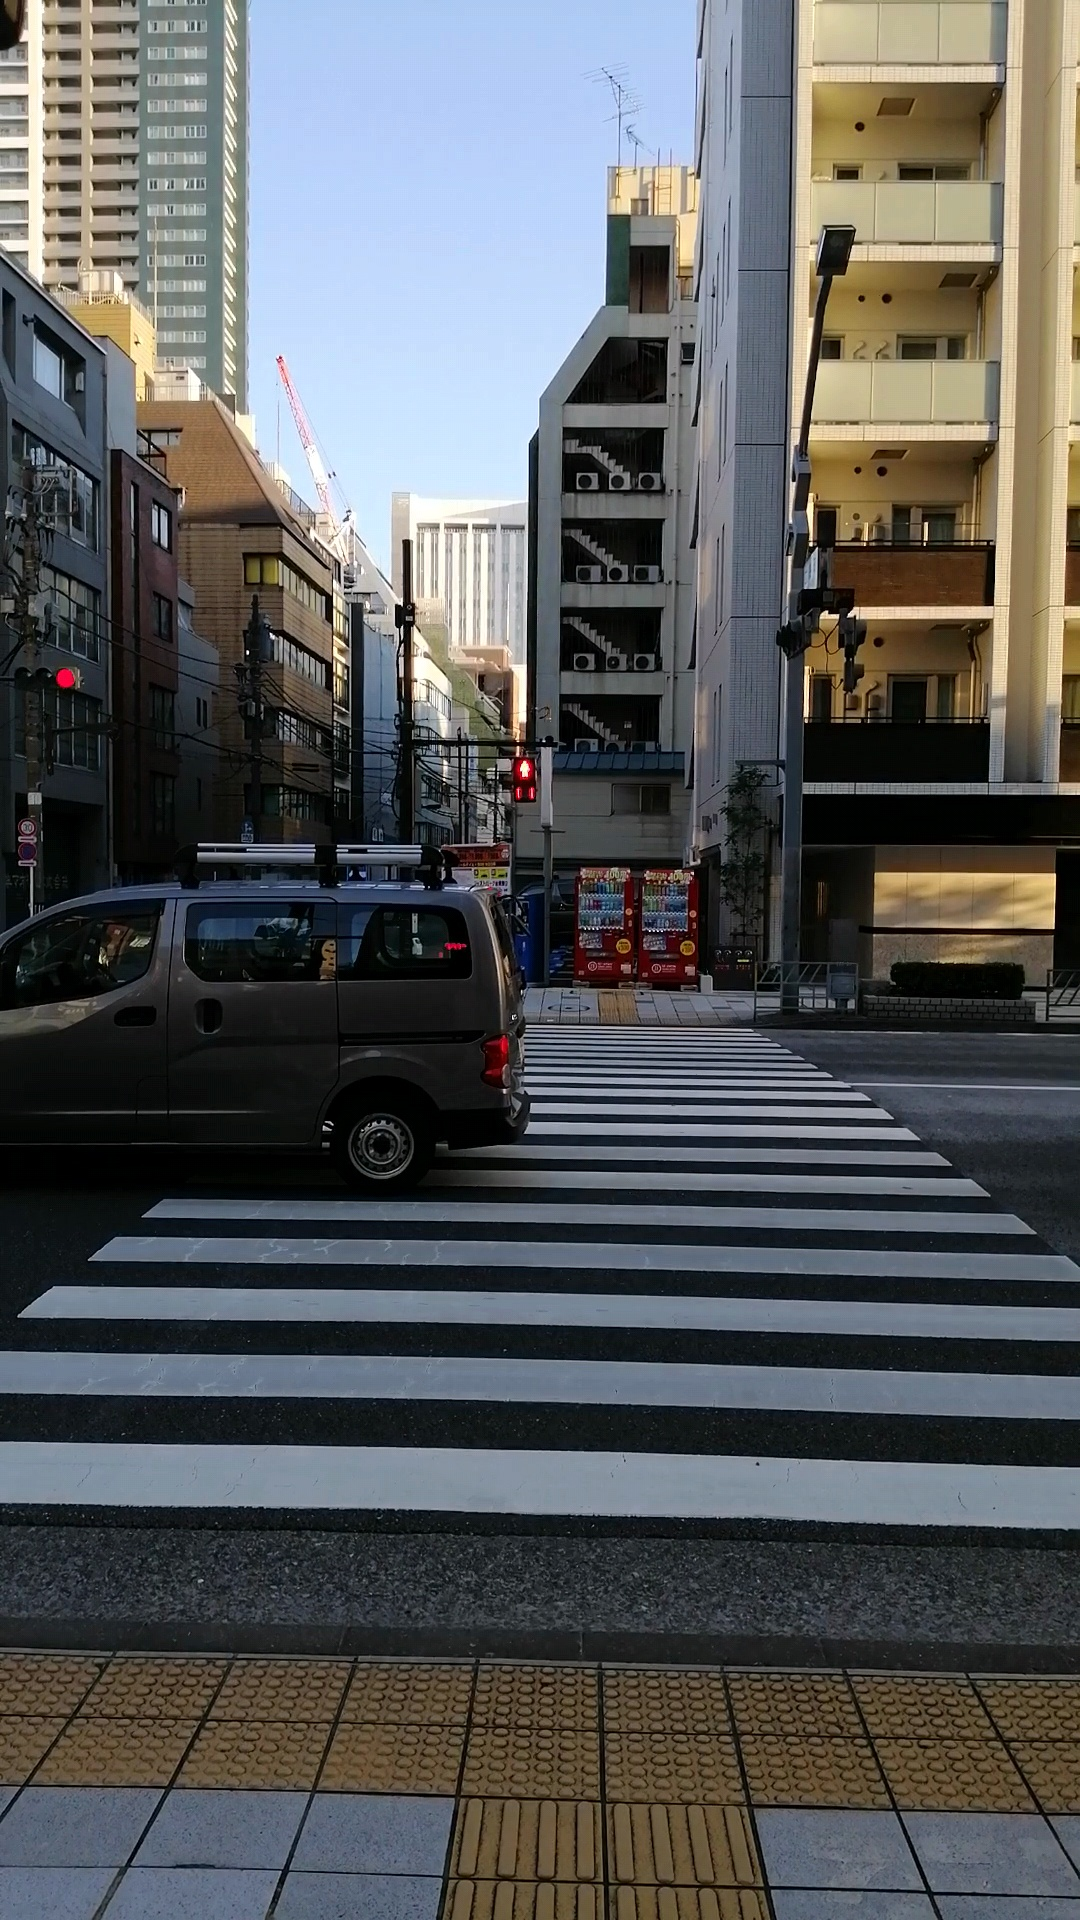red: (510, 754, 537, 804)
